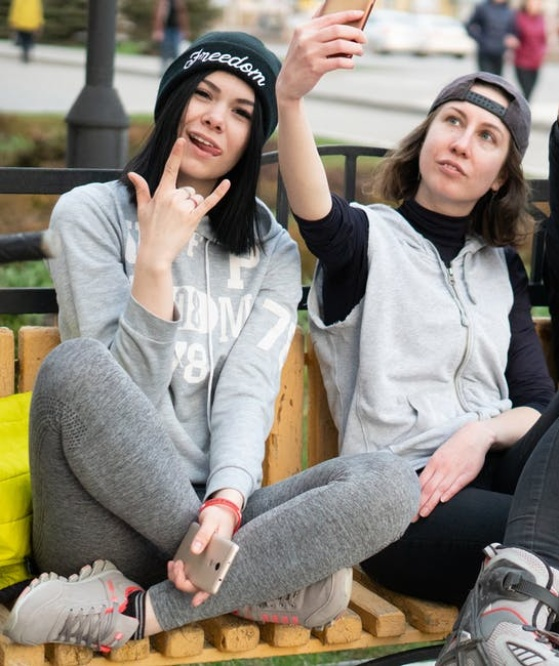face: (419, 99, 509, 199), (174, 70, 256, 179)
